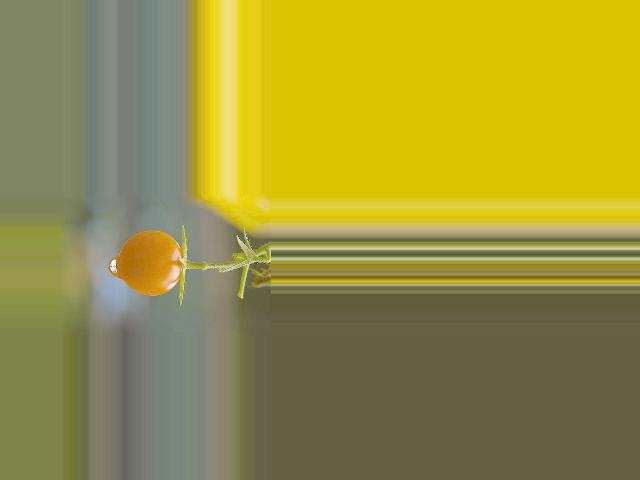tomato: (118, 231, 183, 296)
